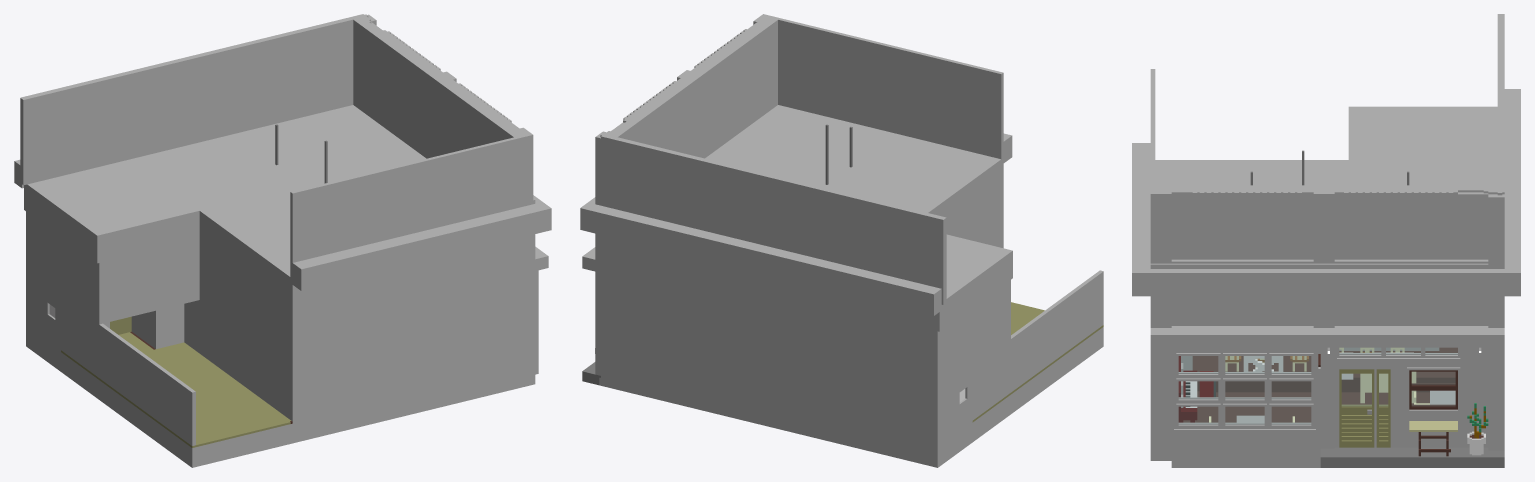
File: cafe.glb
3 renders of one model, left to right at view 1: azimuth 30°, elevation 25°; view 2: azimuth 150°, elevation 25°; view 3: azimuth 270°, elevation 25°, orthographic. The views are drawn at different scales.
Visible parts, largest first — view 1: Object_2; view 2: Object_2; view 3: Object_2.
Boxes of the visible parts, x1,y1,x2,y2 form: Object_2: (14,14,551,467); Object_2: (580,14,1103,467); Object_2: (1132,14,1520,467).
Size of the model in its own units: 4.04 by 2.52 by 3.34.
1 material, 1 textured.
